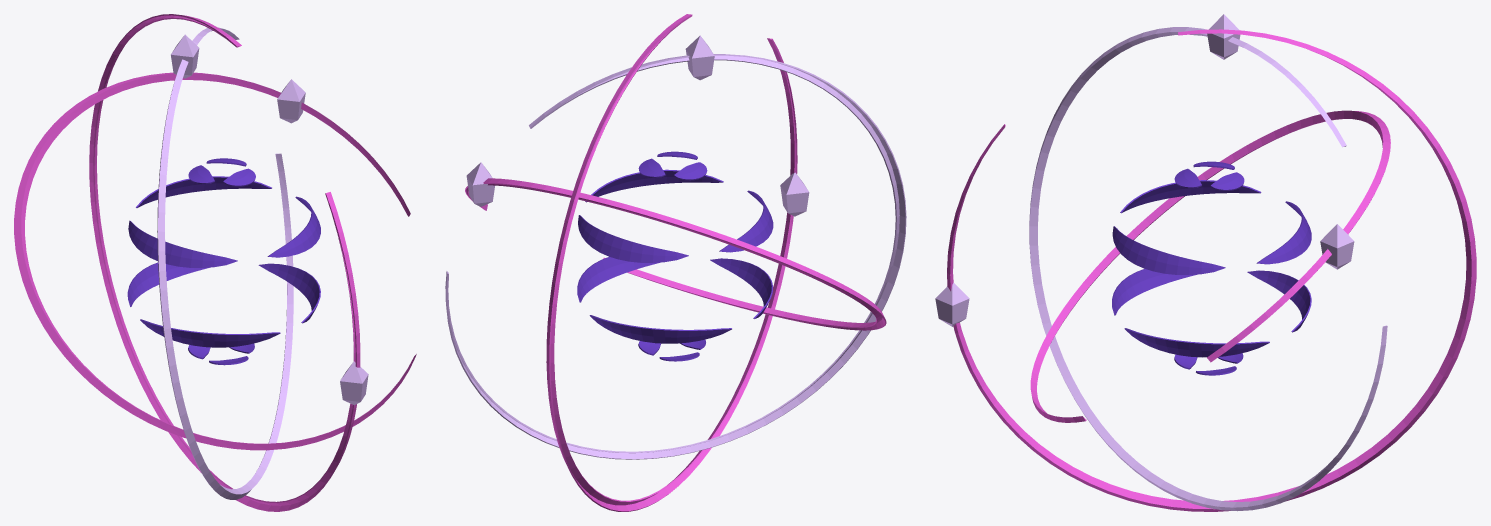
File: VFX_45_CosmicoAstrolabio.fbx
3 renders of one model, left to right at view 1: azimuth 30°, elevation 25°; view 2: azimuth 150°, elevation 25°; view 3: azimuth 270°, elevation 25°, orthographic. The views are drawn at different scales.
Parts seen in each view (by area): view 1: VFX_45_CosmicoAstrolabio; view 2: VFX_45_CosmicoAstrolabio; view 3: VFX_45_CosmicoAstrolabio.
Part boxes in pixels (<box>): VFX_45_CosmicoAstrolabio: <box>14,14,416,511</box>; VFX_45_CosmicoAstrolabio: <box>445,14,906,511</box>; VFX_45_CosmicoAstrolabio: <box>935,14,1476,511</box>.
Bounding box in the file's own units: 274 × 323 × 330.
1 material, 1 textured.
